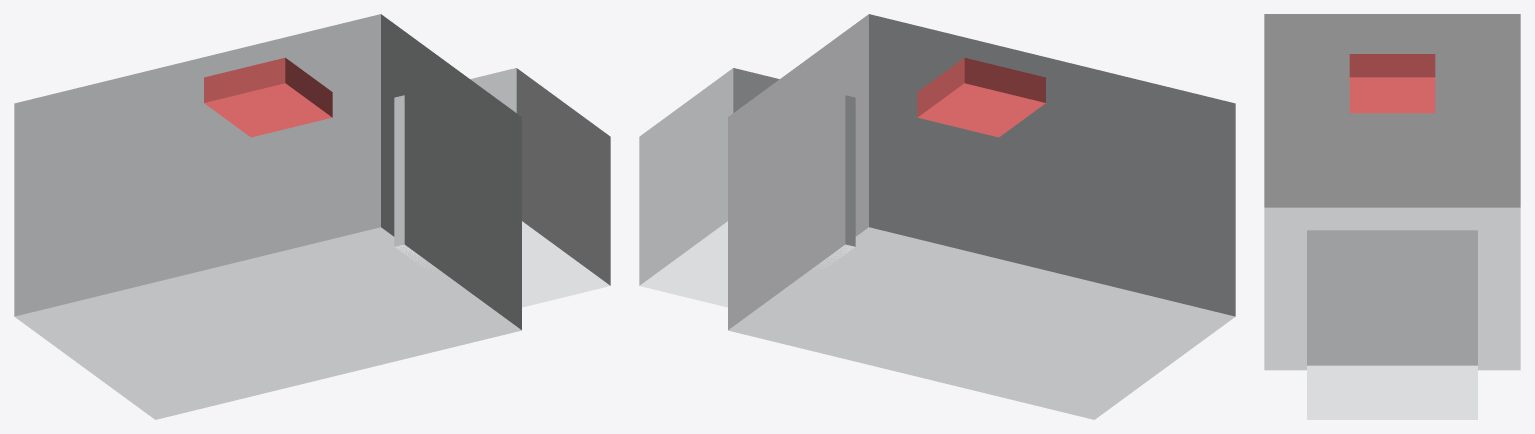
File: hospital.gltf
3 views of the same model, side by side, from view 1: azimuth 30°, elevation 25°; view 2: azimuth 150°, elevation 25°; view 3: azimuth 270°, elevation 25° (orthographic). The views are drawn at different scales.
Visible parts, largest first — view 1: main, wing, roof_sign; view 2: main, wing, roof_sign; view 3: main, wing, roof_sign.
Boxes of the visible parts, box(x1,y1,x2,y2) form: main: box(14, 14, 521, 419); wing: box(394, 68, 610, 307); roof_sign: box(204, 57, 332, 137); main: box(728, 14, 1235, 419); wing: box(639, 68, 855, 307); roof_sign: box(917, 57, 1045, 137); main: box(1264, 14, 1520, 370); wing: box(1307, 230, 1477, 419); roof_sign: box(1349, 54, 1435, 113).
Bounding box in the file's own units: 2.35 × 1.12 × 1.2.
